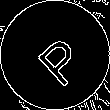P_NW: (24, 24, 86, 86)
